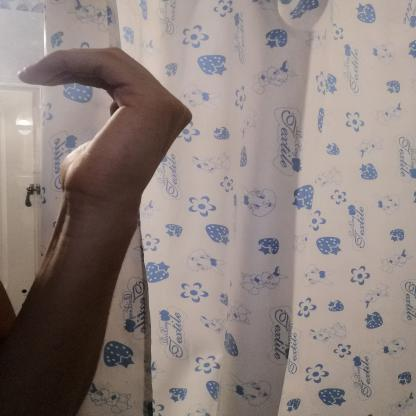HAA: (5, 36, 212, 223)
